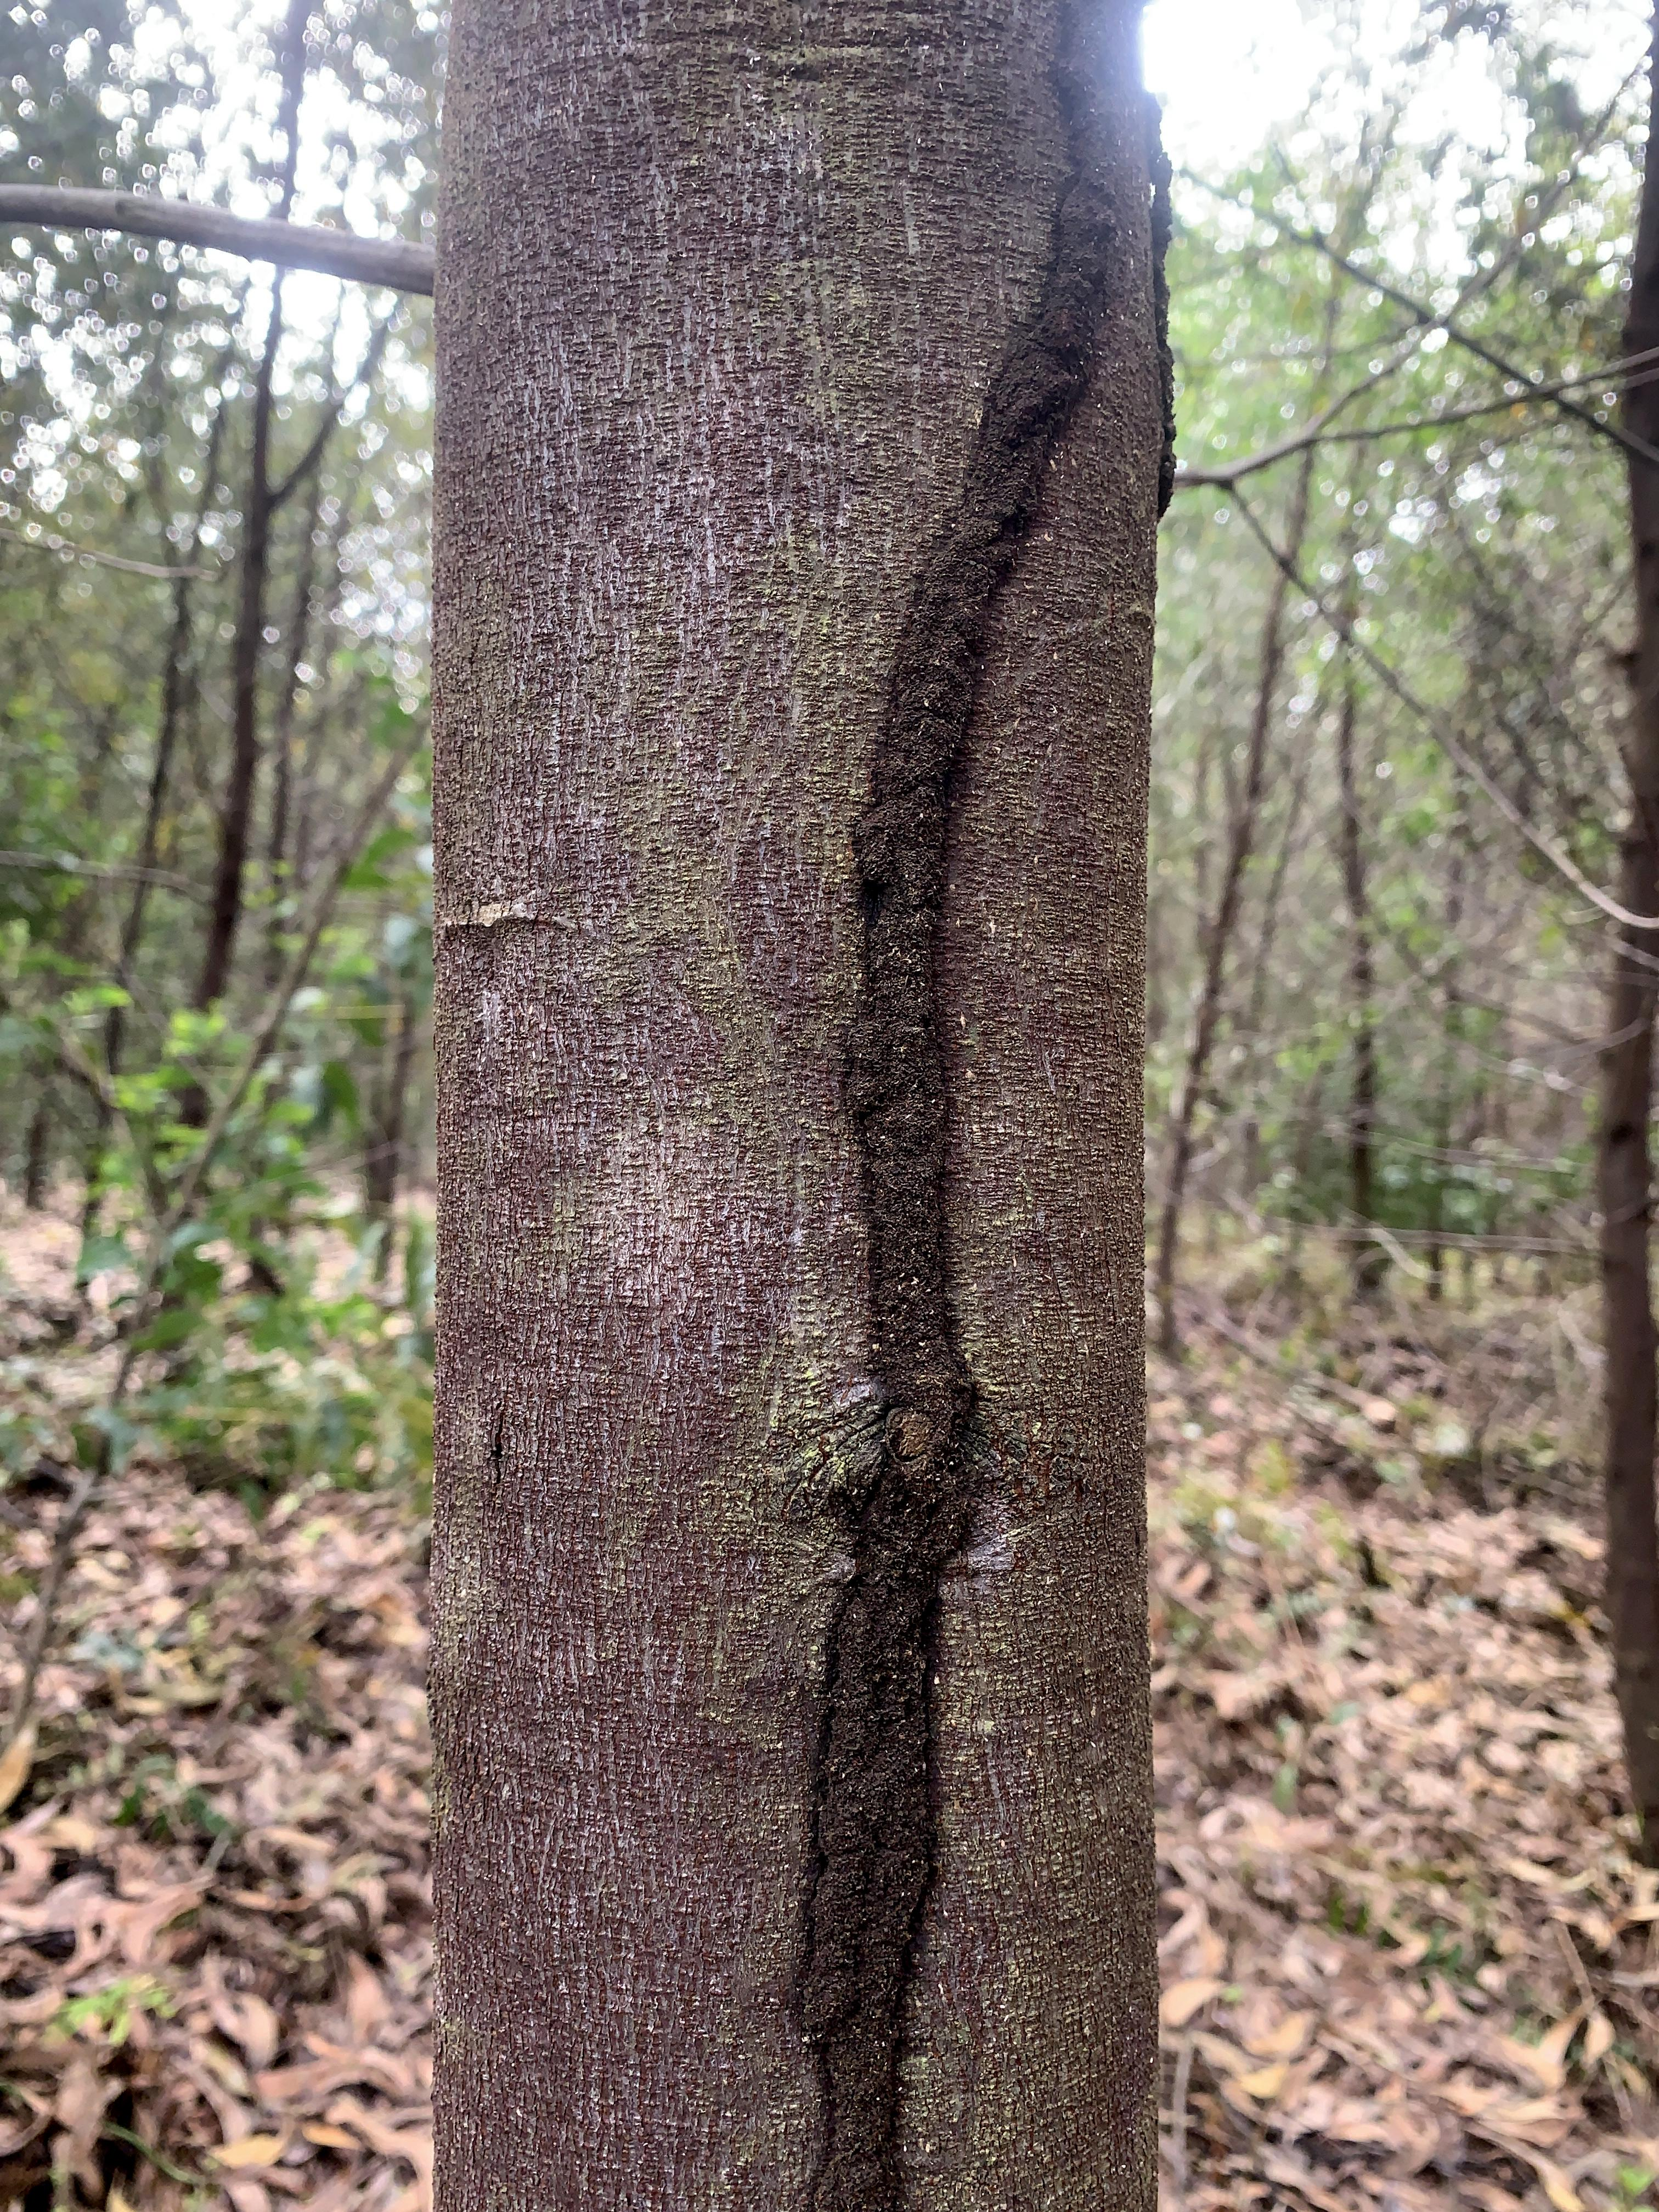Termite - Nest: (758, 0, 1175, 2207)
